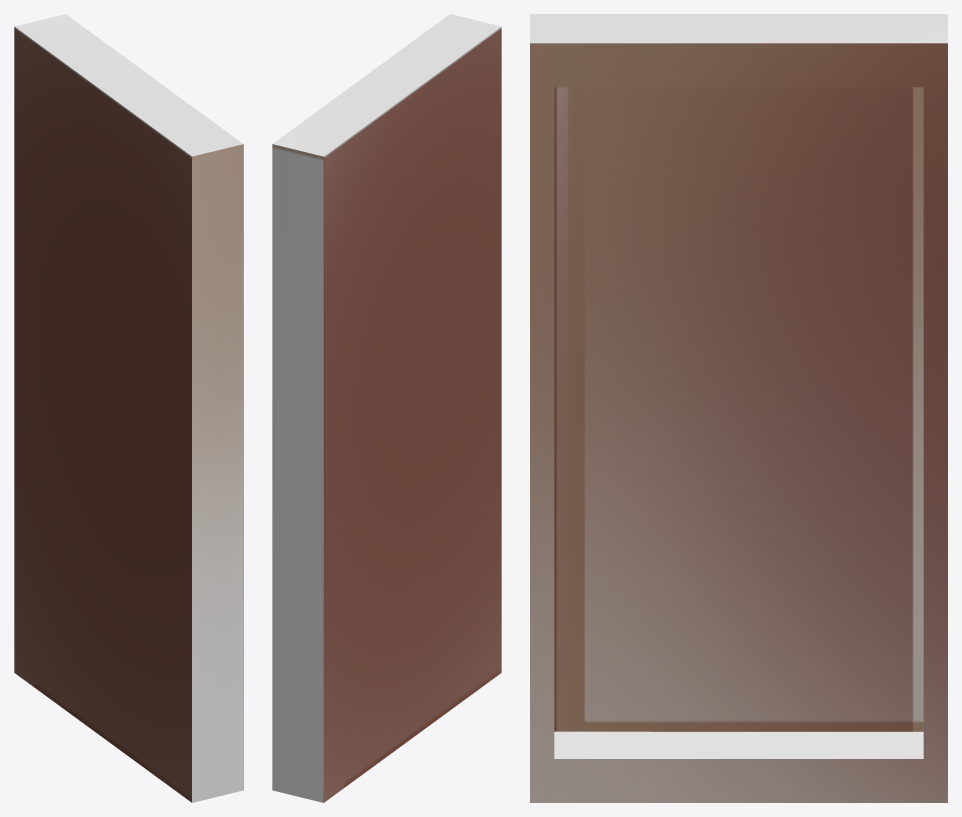
Rendered from SM_finestra.fbx.
3 views of the same model, side by side, from view 1: azimuth 30°, elevation 25°; view 2: azimuth 150°, elevation 25°; view 3: azimuth 270°, elevation 25° (orthographic). The views are drawn at different scales.
Visible parts, largest first — view 1: Cube; view 2: Cube; view 3: Cube.
Part boxes in pixels (box(x1,y1,x2,y2)): Cube: box(14, 14, 243, 802); Cube: box(272, 14, 501, 802); Cube: box(530, 14, 947, 802).
Bounding box in the file's own units: 43.68 × 525 × 262.
